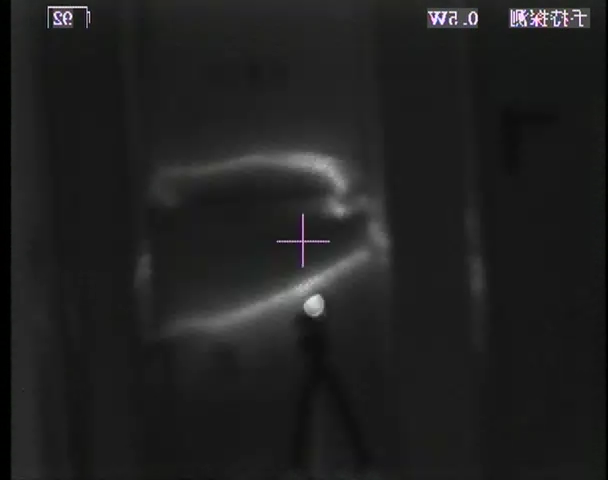my: (300, 292, 328, 319)
